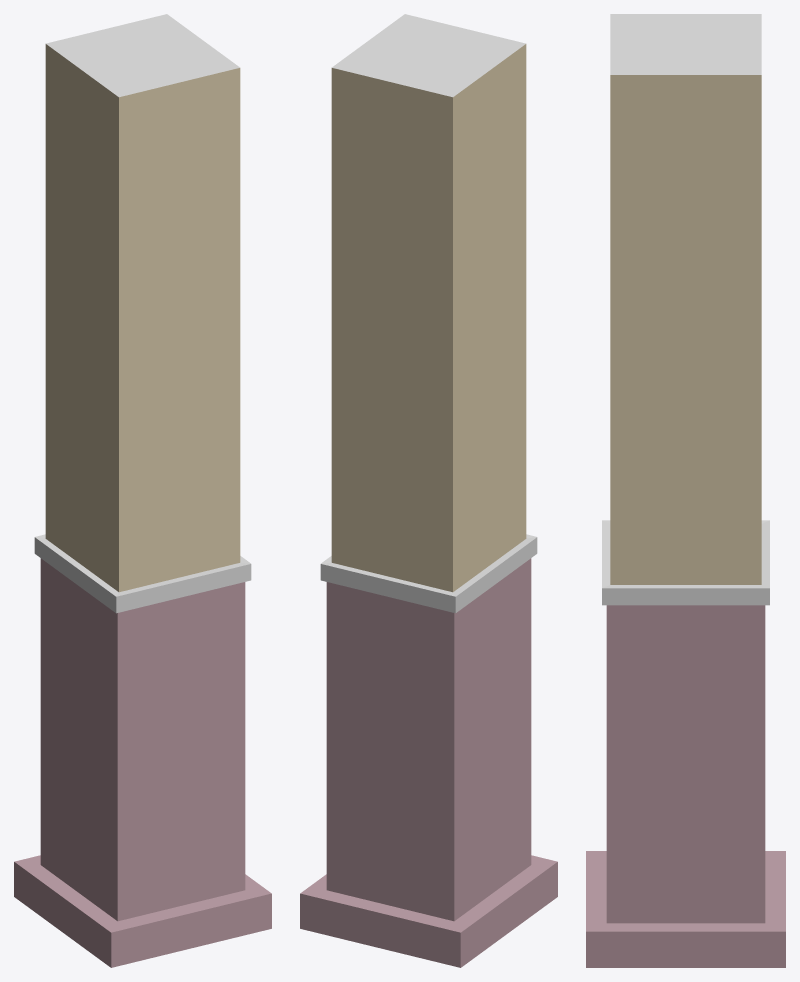
File: cube.009_lev3.glb
3 views of the same model, side by side, from view 1: azimuth 30°, elevation 25°; view 2: azimuth 150°, elevation 25°; view 3: azimuth 270°, elevation 25° (orthographic). The views are drawn at different scales.
Visible parts, largest first — view 1: cube.009_lev3; view 2: cube.009_lev3; view 3: cube.009_lev3.
Boxes of the visible parts, box(x1,y1,x2,y2) form: cube.009_lev3: box(14, 14, 271, 967); cube.009_lev3: box(300, 14, 557, 967); cube.009_lev3: box(586, 14, 785, 967).
Size of the model in its own units: 1.45 by 7.37 by 1.51.
